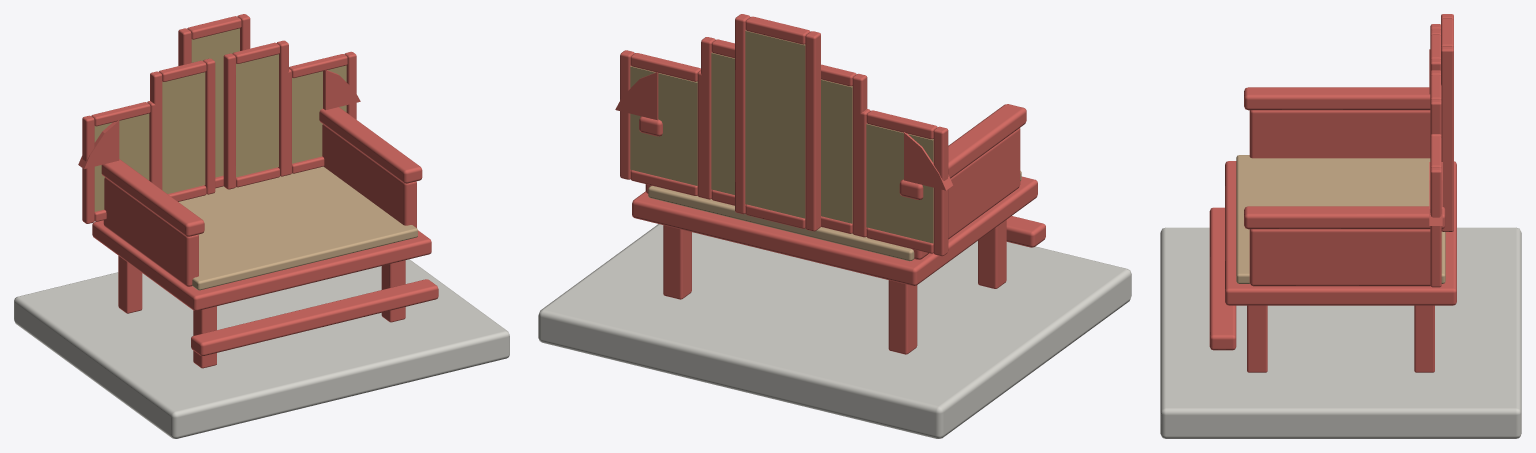
The model's file is throne.glb.
3 views of the same model, side by side, from view 1: azimuth 30°, elevation 25°; view 2: azimuth 150°, elevation 25°; view 3: azimuth 270°, elevation 25° (orthographic). The views are drawn at different scales.
Visible parts, largest first — view 1: imperial-throne-chair; view 2: imperial-throne-chair; view 3: imperial-throne-chair.
Boxes of the visible parts, box(x1,y1,x2,y2) form: imperial-throne-chair: box(14, 14, 509, 438); imperial-throne-chair: box(538, 14, 1131, 438); imperial-throne-chair: box(1160, 14, 1521, 438).
Size of the model in its own units: 2.3 by 1.84 by 1.9.
